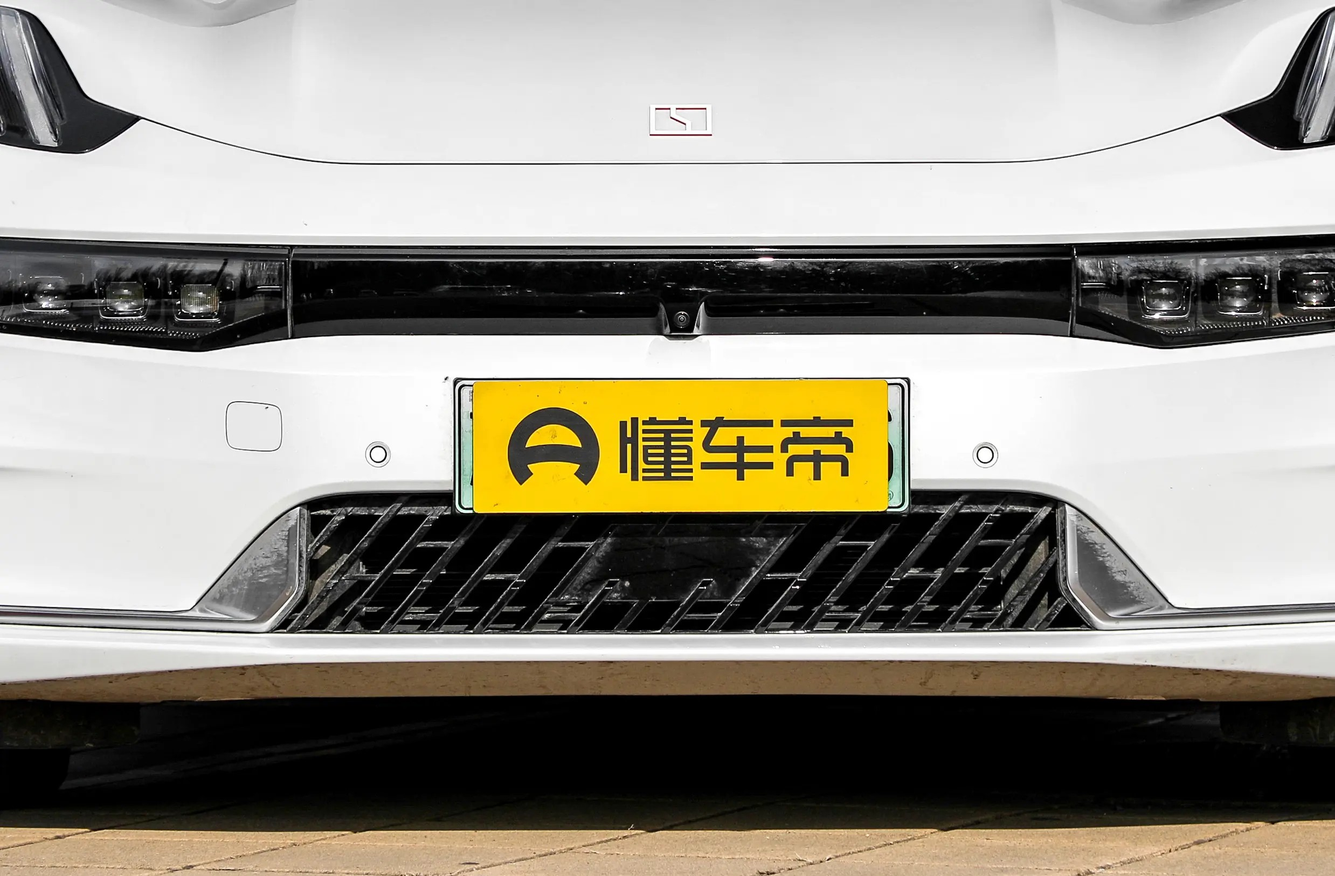ZEEKR: (649, 104, 711, 134)
